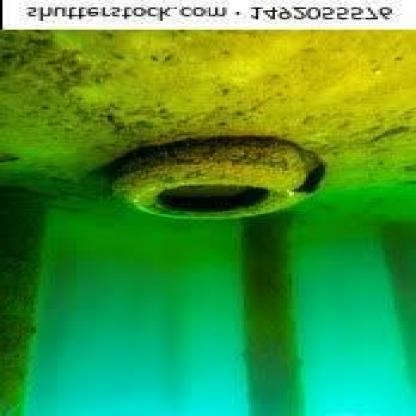tire: (96, 134, 342, 229)
